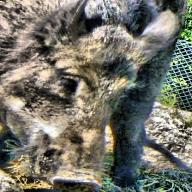boar: (0, 0, 187, 192)
